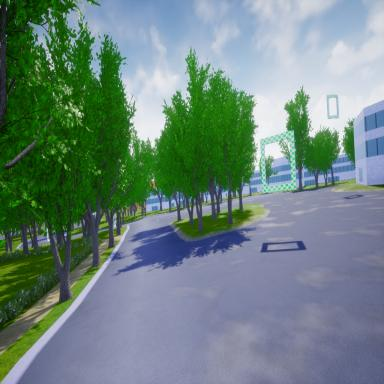gate: (260, 128, 296, 198), (326, 91, 340, 122)
